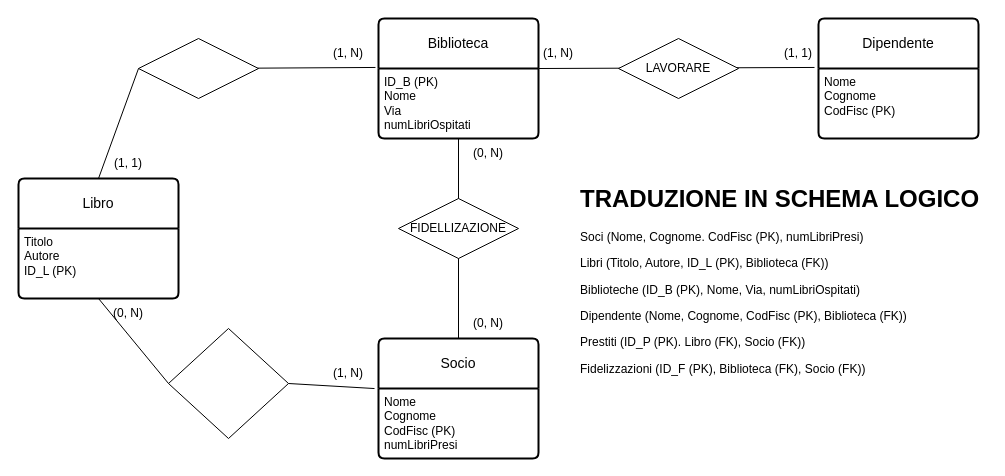
The diagram is 1005 pixels wide and 476 high, and some of its shapes have lost their labels. Each missing label, with the centre of its shape:
"OSPITARE" belongs at point (198, 68).
"PRESTITO - dataInizio - dataFine" belongs at point (228, 383).
